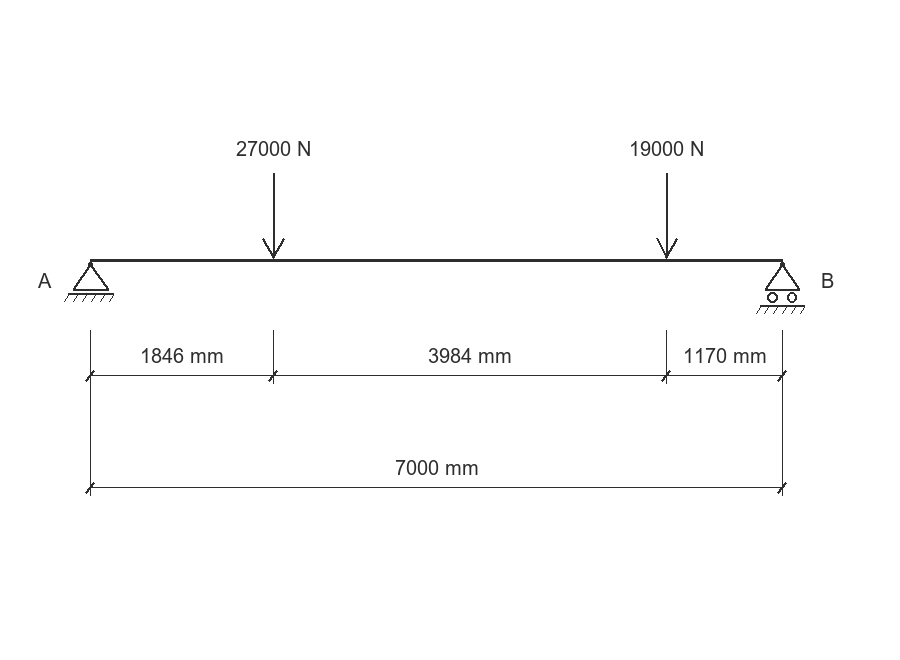pin_support: (64, 262, 114, 302)
point_load: (262, 173, 285, 259), (656, 173, 678, 259)
roller_support: (756, 262, 805, 314)
